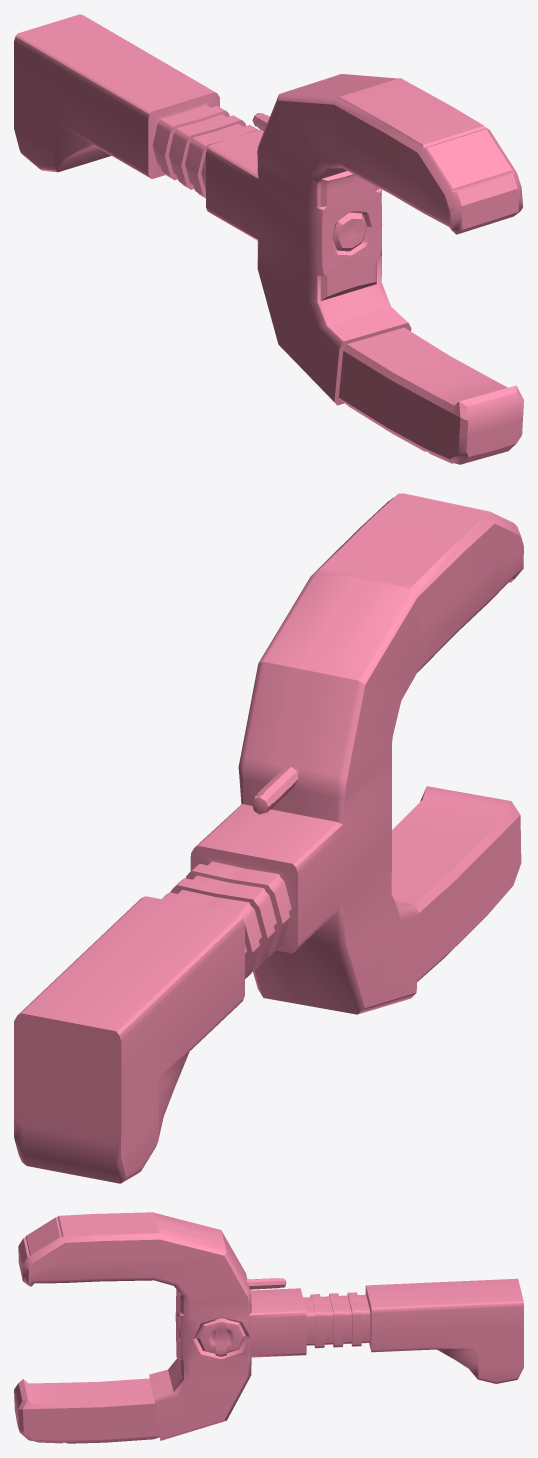
File: magnetic.fbx
3 renders of one model, top to bottom at view 1: azimuth 30°, elevation 25°; view 2: azimuth 150°, elevation 25°; view 3: azimuth 270°, elevation 25°, orthographic. The views are drawn at different scales.
Visible parts, largest first — view 1: pasted__pasted__sen_weapon; view 2: pasted__pasted__sen_weapon; view 3: pasted__pasted__sen_weapon.
Part boxes in pixels (x1,y1,x2,y2): pasted__pasted__sen_weapon: (14,14,523,464); pasted__pasted__sen_weapon: (14,493,523,1183); pasted__pasted__sen_weapon: (14,1212,523,1443).
Size of the model in its own units: 30.11 by 63.05 by 138.
1 material, 1 textured.
